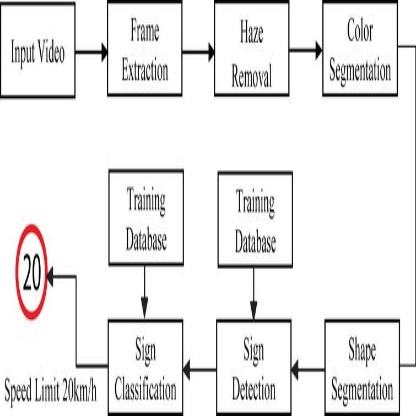limit2: (9, 222, 53, 322)
